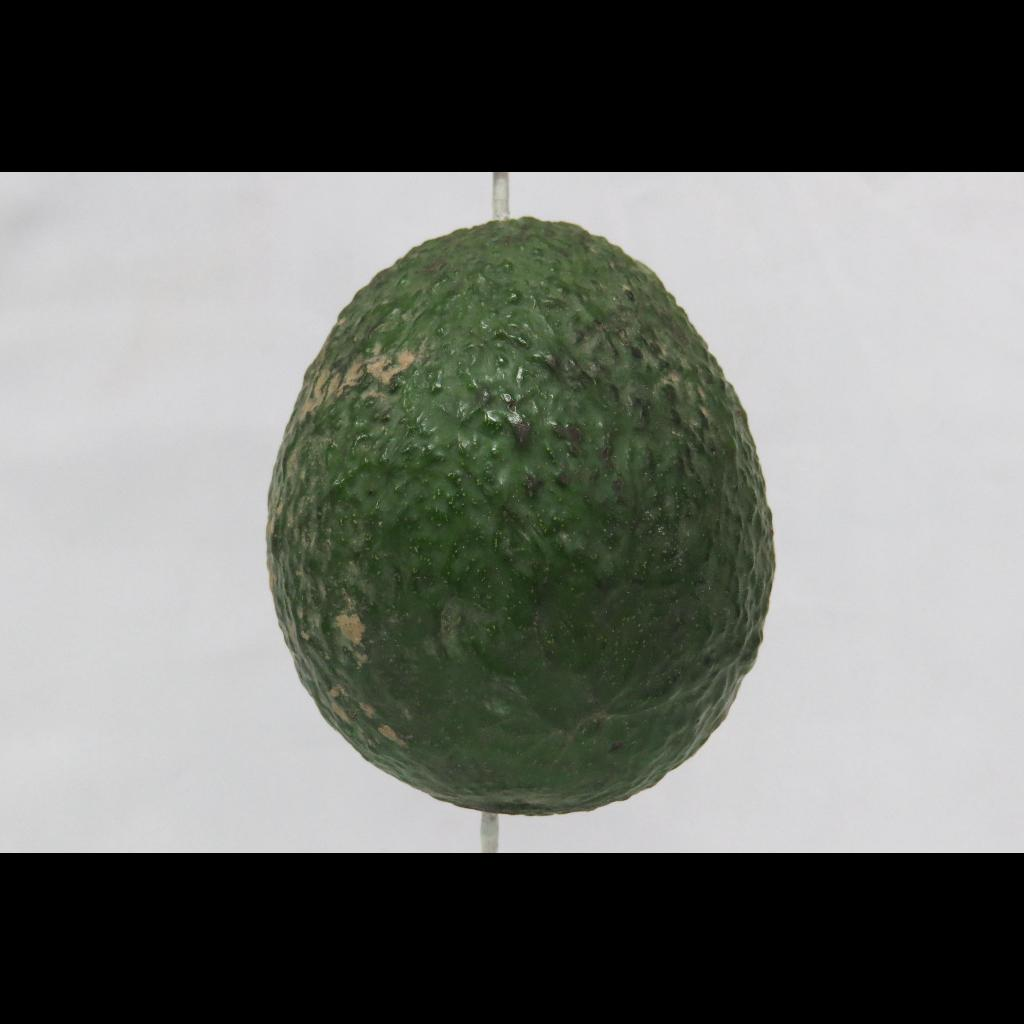Healthy: (226, 198, 798, 844)
